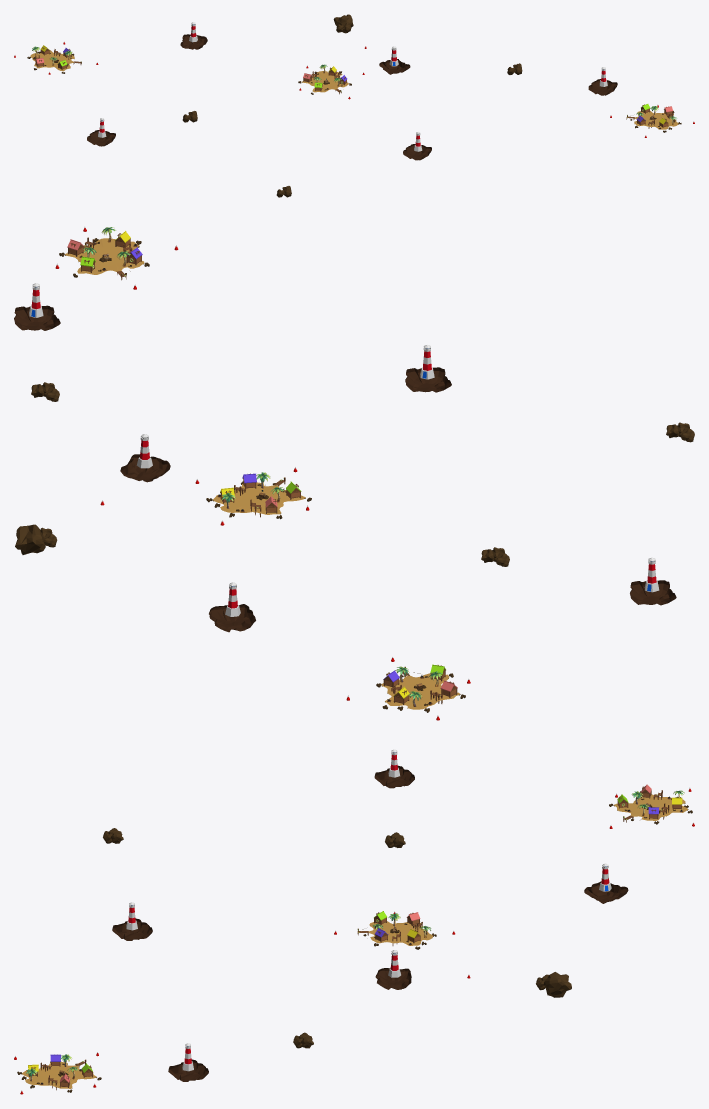
The model's file is map-transformed.glb.
The picture shows the model from 3 angles, top to bottom: view 1: azimuth 30°, elevation 25°; view 2: azimuth 150°, elevation 25°; view 3: azimuth 270°, elevation 25°; orthographic projection. The views are drawn at different scales.
Visible parts, largest first — view 1: Suelo, Suelo.002, Suelo.001, Plane.013, Plane.004, Plane.012; view 2: Suelo, Suelo.002, Suelo.001, Cube.052, Plane.001, Plane.013, Plane.004, Plane.012, Plane; view 3: Suelo.001, Suelo.002, Suelo, Cube.052, Plane, Plane.001, Plane.013, Plane.012, Plane.004.
Part boxes in pixels (bbox=[...]): Suelo: bbox=[301, 71, 348, 92]; Suelo.002: bbox=[30, 50, 74, 71]; Suelo.001: bbox=[634, 111, 678, 129]; Plane.013: bbox=[588, 79, 617, 95]; Plane.004: bbox=[403, 144, 431, 160]; Plane.012: bbox=[87, 130, 115, 146]; Suelo: bbox=[212, 482, 305, 514]; Suelo.002: bbox=[381, 672, 460, 709]; Suelo.001: bbox=[64, 238, 144, 274]; Cube.052: bbox=[15, 524, 57, 554]; Plane.001: bbox=[209, 604, 255, 632]; Plane.013: bbox=[14, 305, 60, 330]; Plane.004: bbox=[405, 367, 451, 392]; Plane.012: bbox=[630, 580, 676, 605]; Plane: bbox=[120, 454, 170, 482]; Suelo.001: bbox=[21, 1061, 96, 1088]; Suelo.002: bbox=[613, 794, 688, 820]; Suelo: bbox=[362, 921, 432, 945]; Cube.052: bbox=[536, 972, 571, 997]; Plane: bbox=[375, 968, 411, 989]; Plane.001: bbox=[584, 881, 628, 903]; Plane.013: bbox=[168, 1059, 208, 1081]; Plane.012: bbox=[374, 765, 414, 788]; Plane.004: bbox=[112, 918, 152, 940].
Size of the model in its own units: 520 by 30.33 by 460.
Materials: 22 (2 with a texture image).
